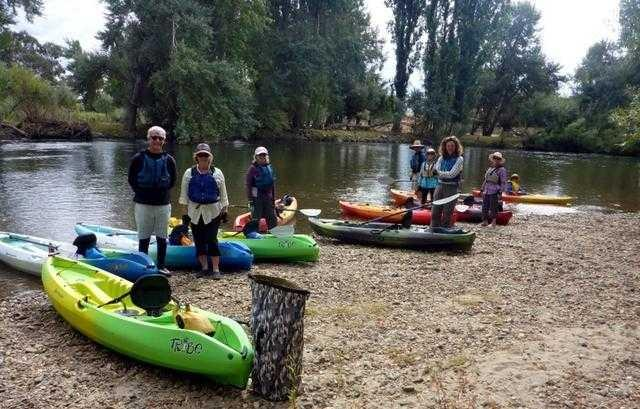kayak: (41, 253, 254, 389), (74, 221, 257, 273), (0, 230, 163, 281), (299, 207, 476, 252), (338, 195, 519, 227), (234, 193, 300, 237), (239, 232, 320, 261), (502, 193, 576, 206)
